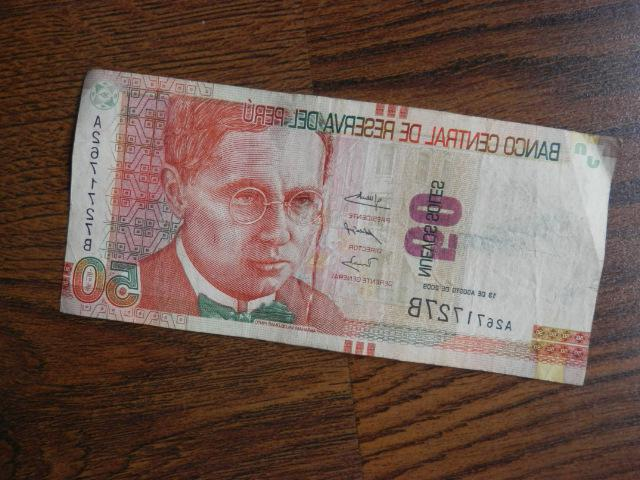B50: (60, 70, 621, 384)
